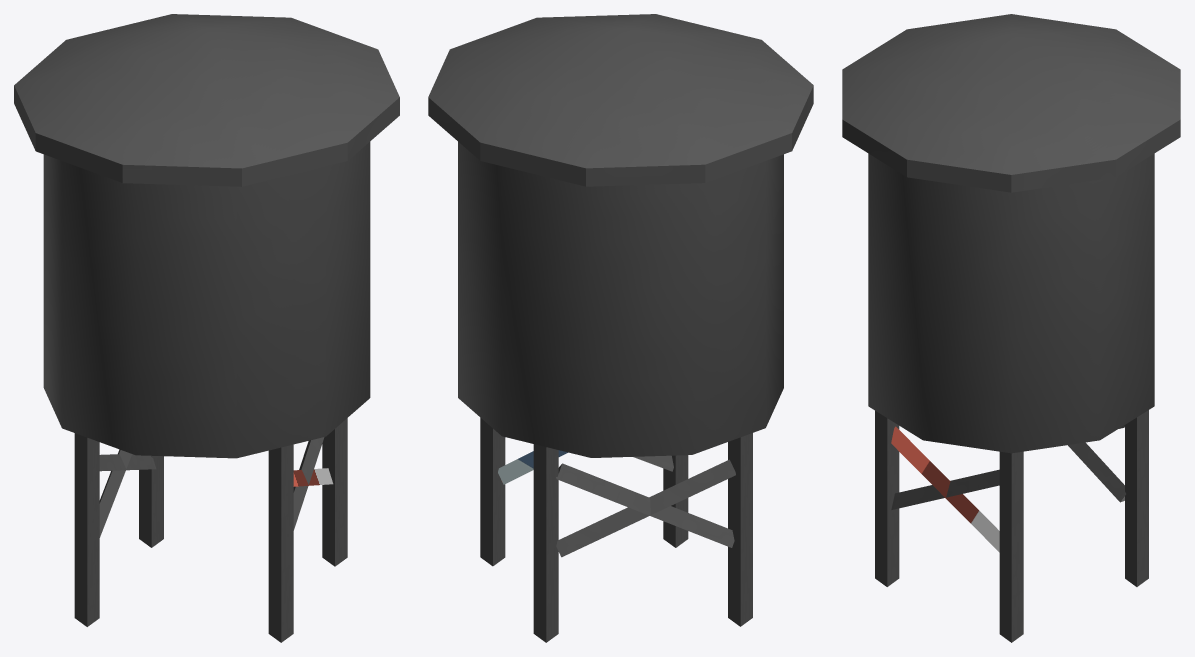
The model's file is cisterna.fbx.
The picture shows the model from 3 angles, left to right: view 1: azimuth 30°, elevation 25°; view 2: azimuth 150°, elevation 25°; view 3: azimuth 270°, elevation 25°; orthographic projection. The views are drawn at different scales.
Parts seen in each view (by area): view 1: cisterna, asta, asta3, asta2, asta1, asta4, asta7, asta6, asta5; view 2: cisterna, asta1, asta3, asta2, asta6, asta7, asta, asta5; view 3: cisterna, asta2, asta1, asta, asta5, asta4, asta6.
Part boxes in pixels (x1,y1,x2,y2): cisterna: (14, 14, 399, 458); asta: (268, 444, 293, 642); asta3: (74, 433, 99, 626); asta2: (322, 418, 347, 566); asta1: (139, 455, 163, 547); asta4: (293, 437, 324, 530); asta7: (99, 449, 132, 537); asta6: (99, 454, 156, 471); asta5: (293, 468, 333, 486); cisterna: (428, 14, 813, 457); asta1: (533, 444, 558, 642); asta3: (728, 433, 752, 626); asta2: (480, 418, 505, 566); asta6: (556, 459, 735, 557); asta7: (556, 463, 734, 547); asta: (663, 455, 688, 547); asta5: (498, 450, 567, 484); cisterna: (842, 14, 1180, 453); asta2: (999, 451, 1023, 642); asta1: (1125, 410, 1148, 586); asta: (875, 411, 899, 586); asta5: (891, 426, 999, 552); asta4: (891, 469, 999, 509); asta6: (1068, 442, 1125, 502).
Bounding box in the file's own units: 7.76 × 12.18 × 6.9.
